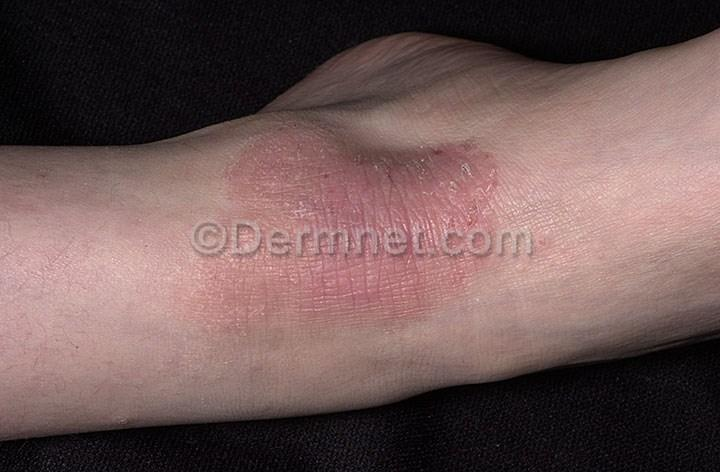Eczema: (219, 127, 506, 223), (207, 258, 485, 335)
